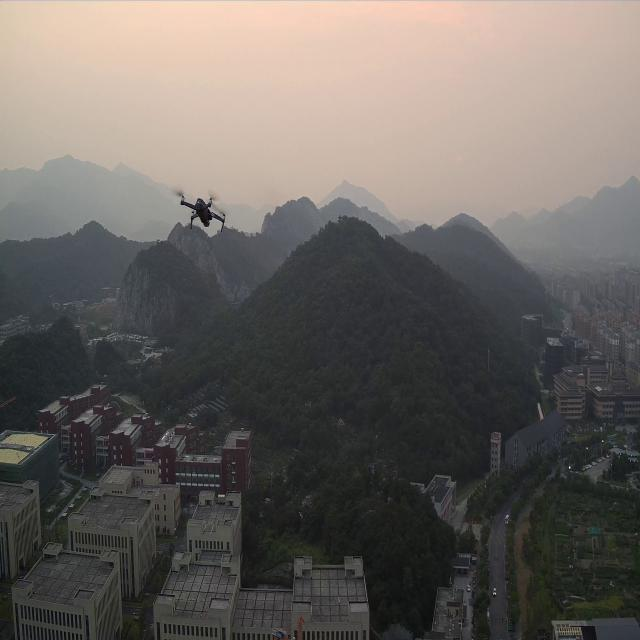UAV: (178, 192, 226, 234)
